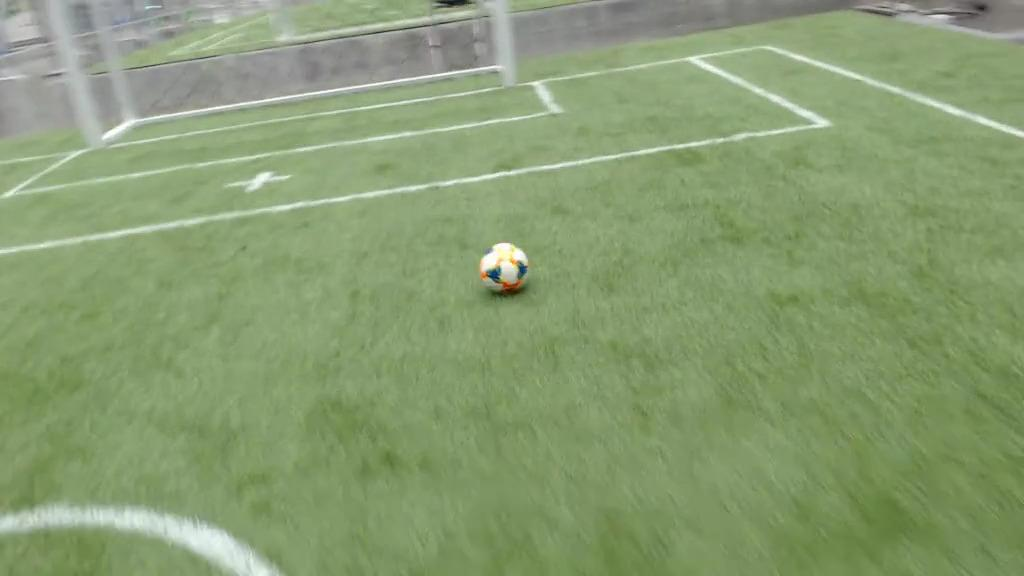ball: (479, 242, 529, 295)
